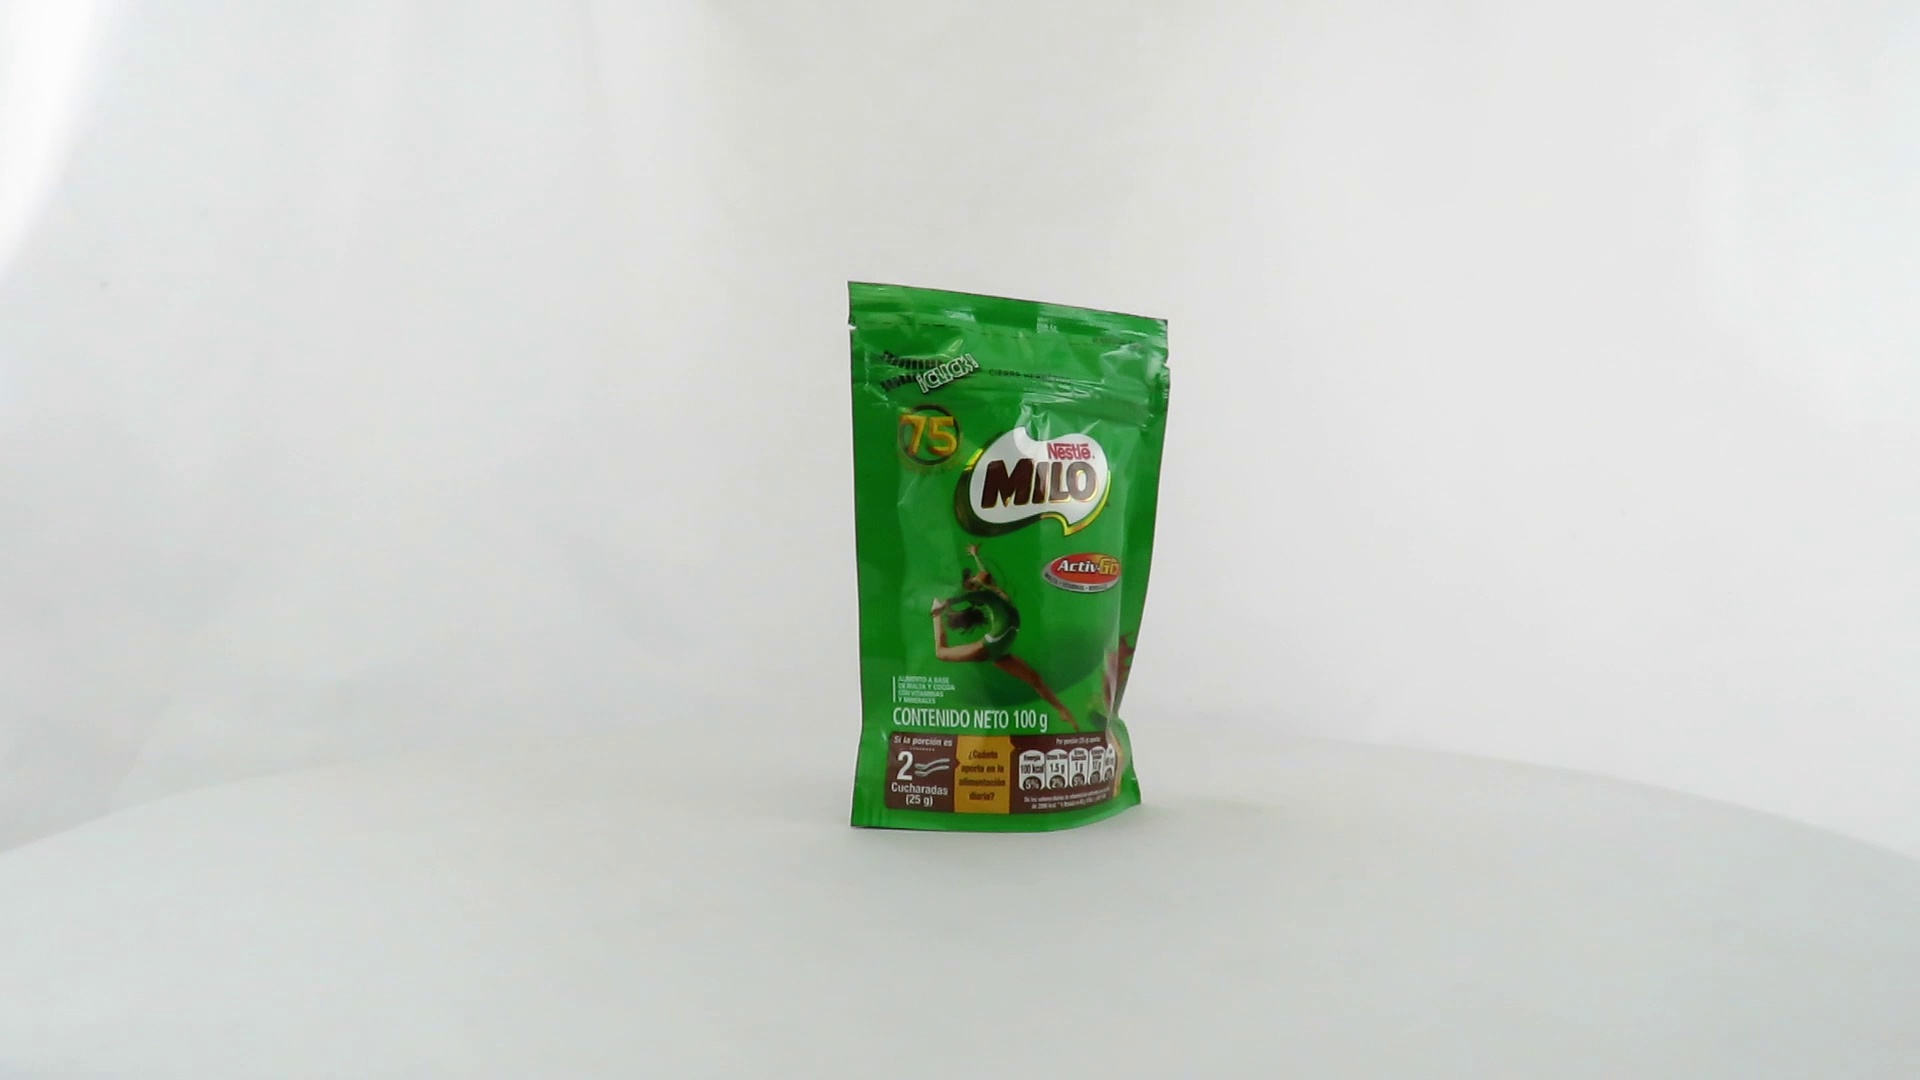COL0170203DYP10000: (843, 276, 1178, 839)
